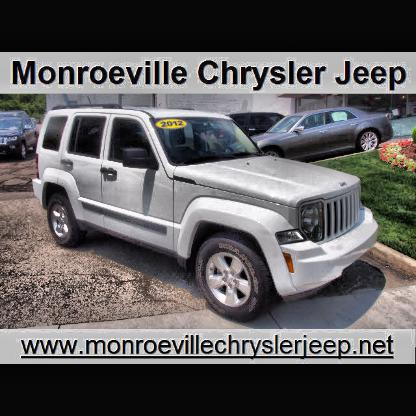Jeep Liberty SUV 2012: (30, 102, 384, 326)
